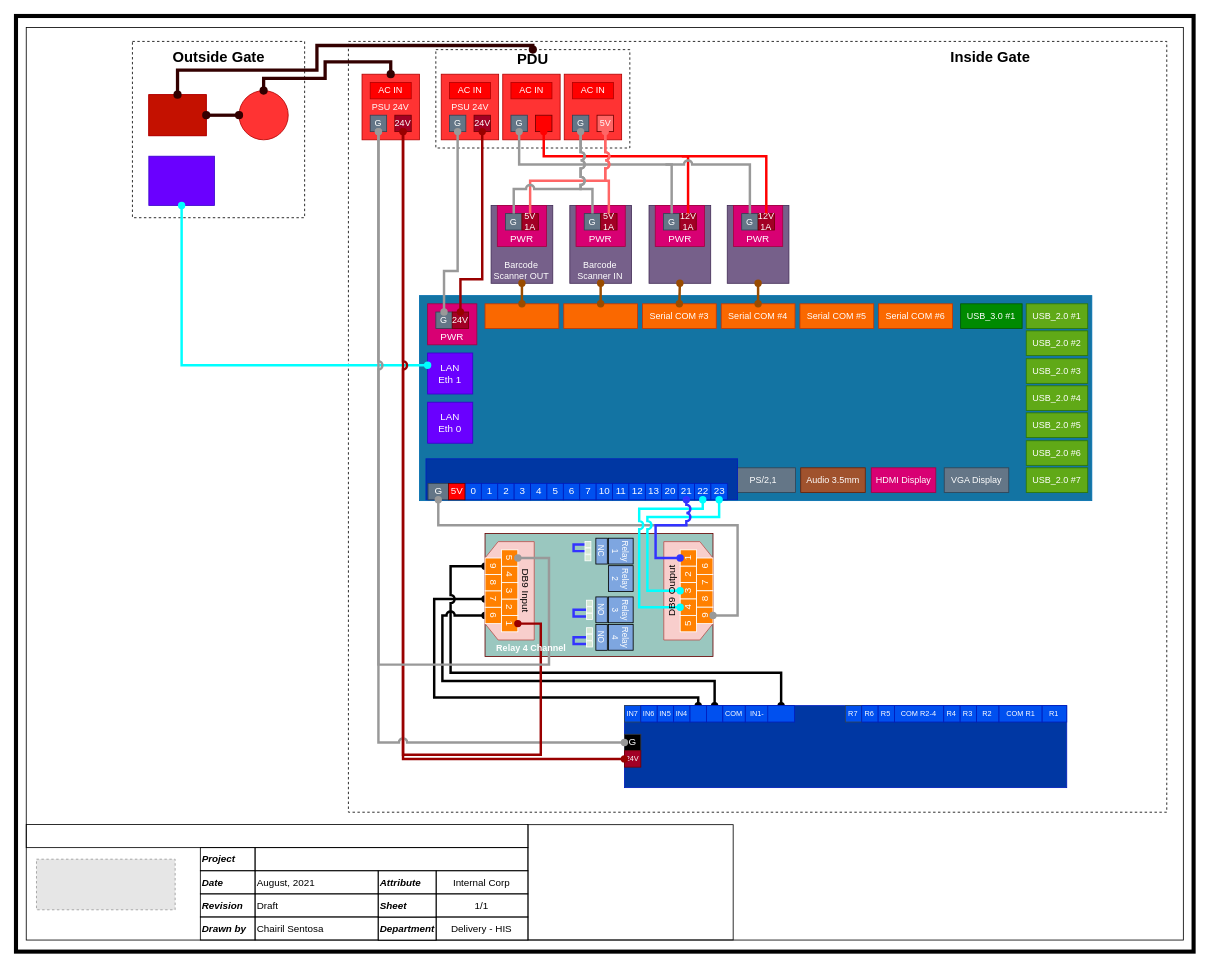
This 1211x968 diagram has some shape labels left out. Grey dashed boxes stand in for pictures. Here are the shapes that lost their labels. From the top down, the box of each, then its label:
(148, 94, 206, 136): 220VAC
(238, 90, 288, 140): Emergency Button
(502, 73, 560, 140): PSU 12V
(535, 114, 552, 132): 12V
(563, 73, 622, 140): PSU 5V
(148, 155, 214, 205): Station LAN Switch
(648, 205, 711, 283): Card Reader IN
(726, 205, 789, 283): Card Reader OUT
(484, 303, 559, 328): Serial COM #1
(563, 303, 638, 328): Serial COM #2
(419, 295, 1092, 501): EPC (Bettsens 6016-J1900)
(425, 458, 738, 500): DIO
(689, 705, 706, 722): IN3
(706, 705, 723, 722): IN2
(767, 705, 794, 722): IN1+
(624, 705, 1067, 788): MBC MPP122
(25, 824, 528, 848): Gate MPP122 System Connectivity Diagram
(254, 847, 528, 871): Sistem AFC LRT Jabodebek
(527, 824, 733, 940): NOTES:
